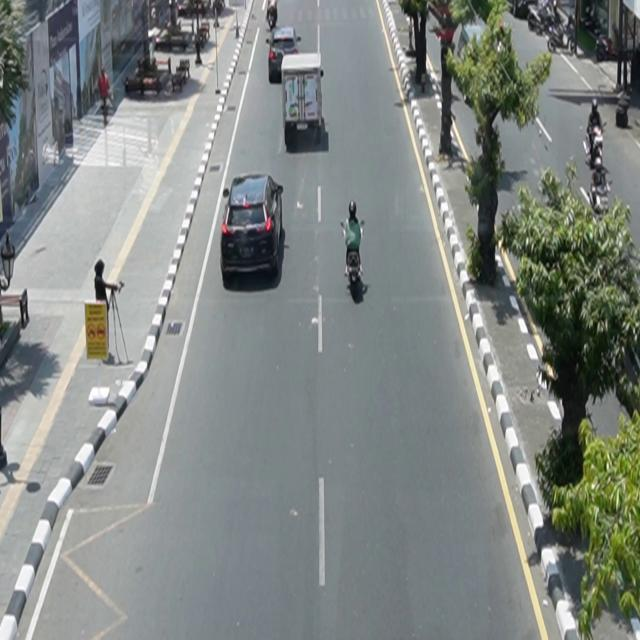car: (222, 173, 285, 281), (268, 27, 303, 84)
truck: (282, 52, 325, 147)
